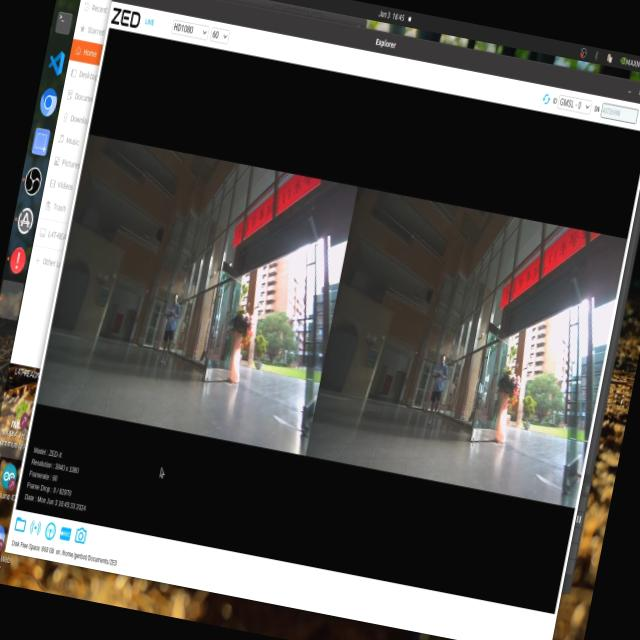blue: (430, 365, 442, 386), (165, 308, 177, 328)
